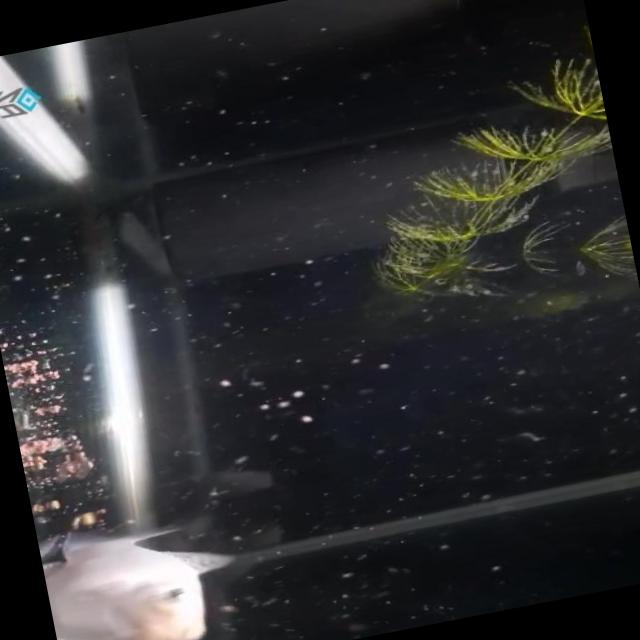PlatyFish: (37, 503, 270, 640)
